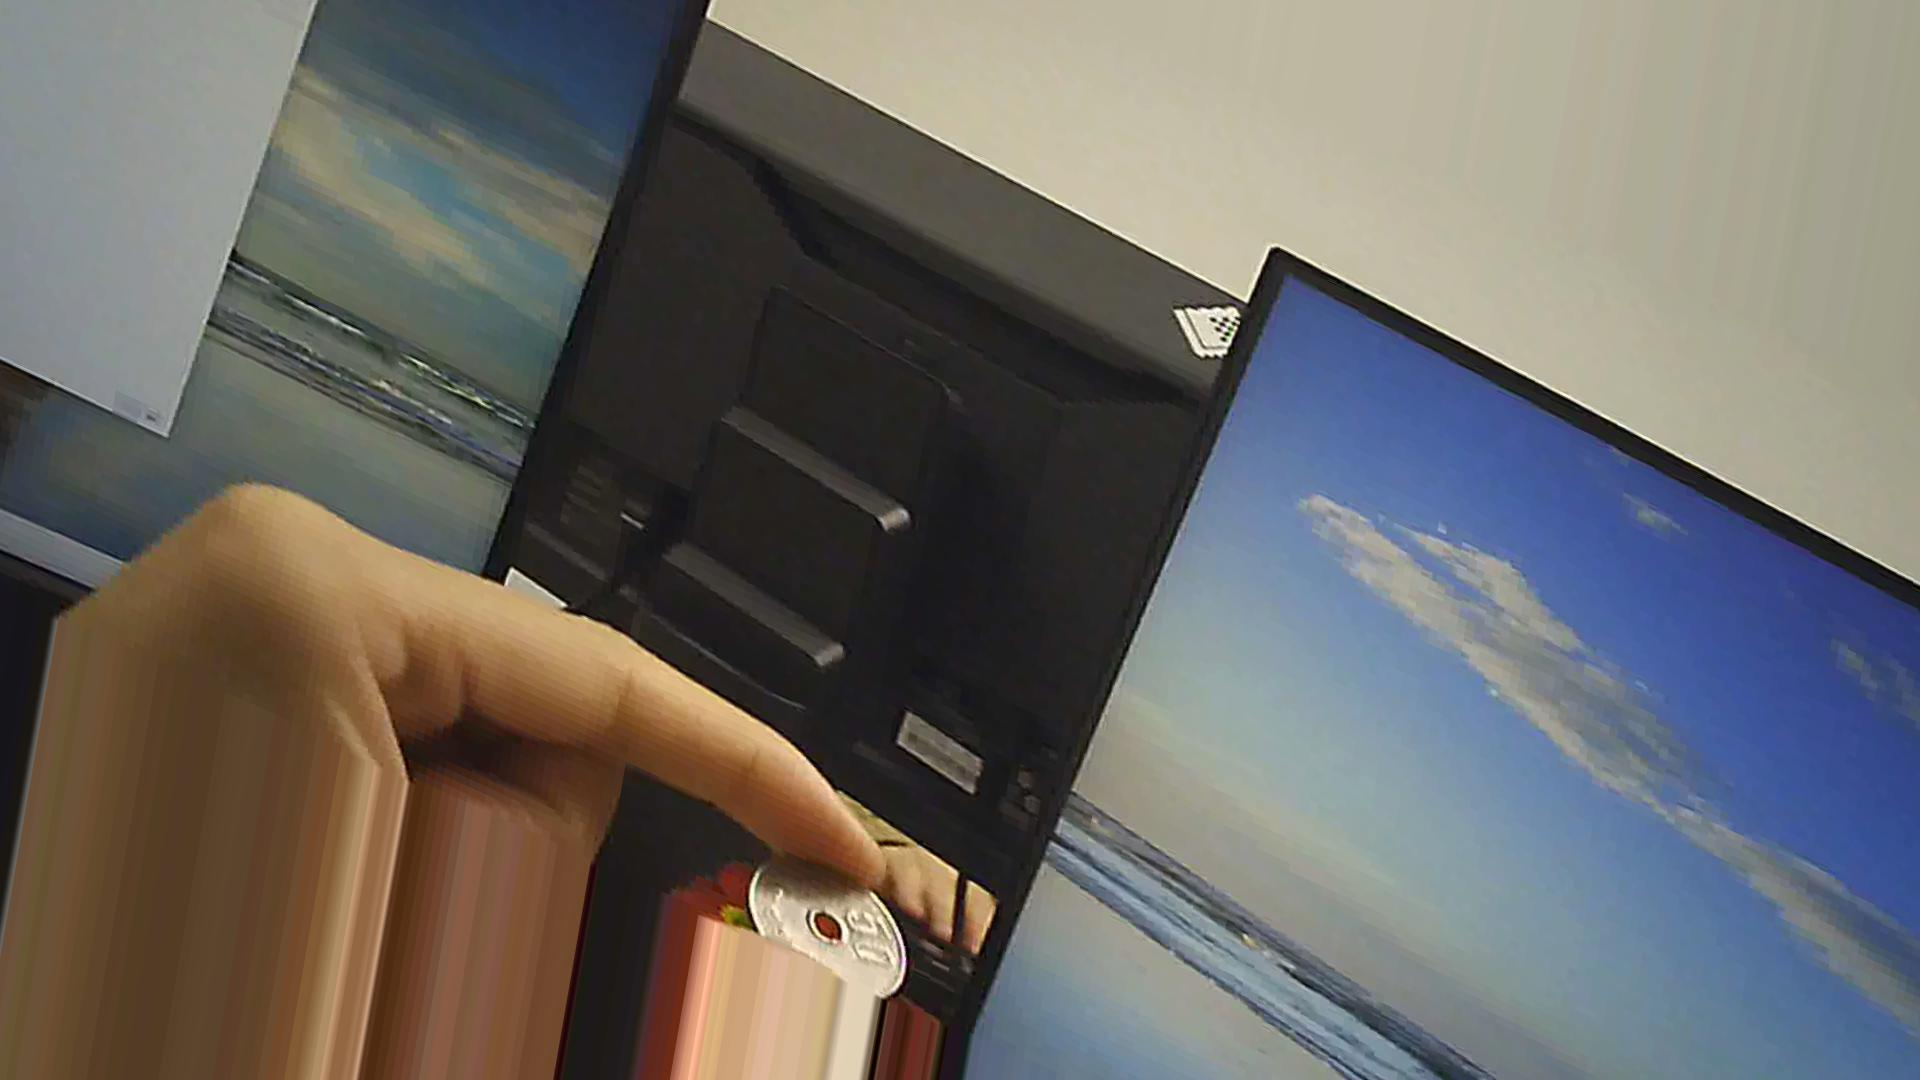50 Yen: (733, 847, 934, 1015)
